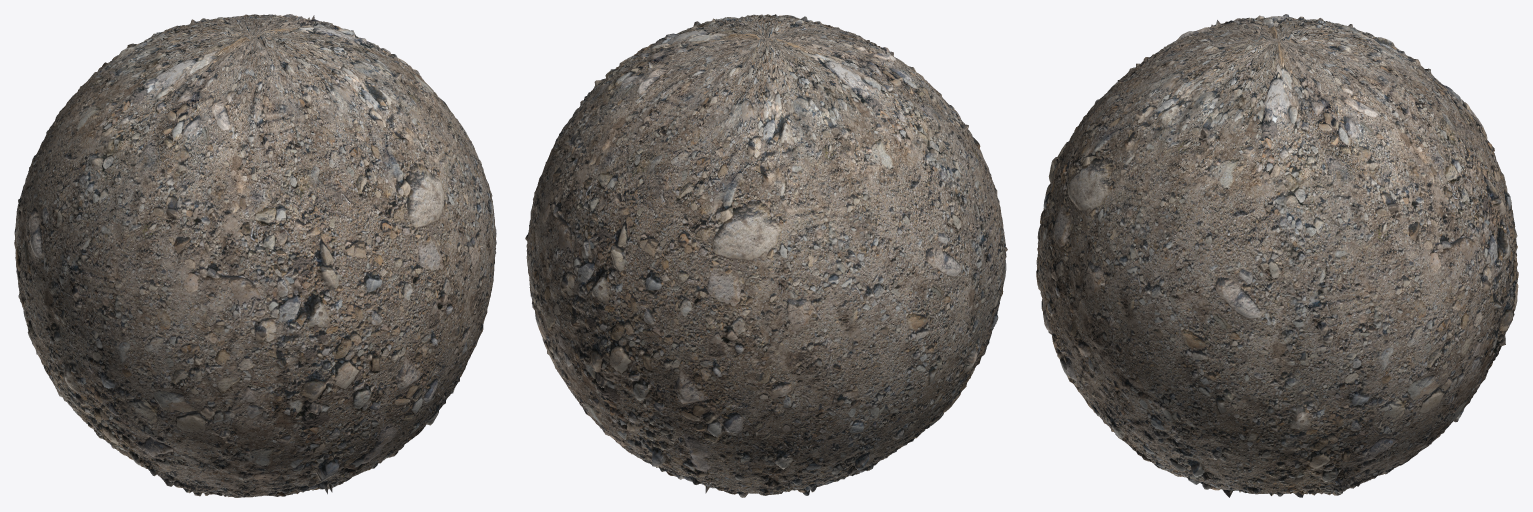
File: rocks_ground_09_1k.gltf
3 views of the same model, side by side, from view 1: azimuth 30°, elevation 25°; view 2: azimuth 150°, elevation 25°; view 3: azimuth 270°, elevation 25° (orthographic).
Parts seen in each view (by area): view 1: sphere_gltf; view 2: sphere_gltf; view 3: sphere_gltf.
Part boxes in pixels (left/top/right/bottom): sphere_gltf: left=14, top=14, right=496, bottom=497; sphere_gltf: left=525, top=14, right=1007, bottom=497; sphere_gltf: left=1036, top=14, right=1518, bottom=497.
Size of the model in its own units: 2.98 by 3.07 by 3.01.
Materials: 1 (1 with a texture image).
